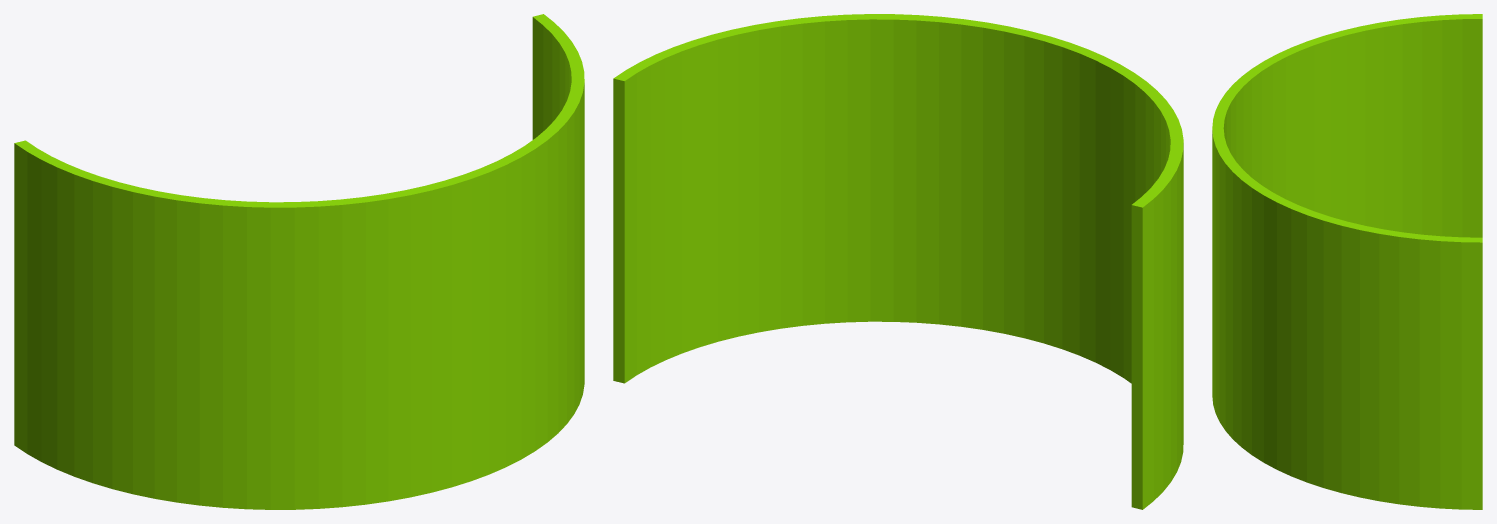
File: Wall_03_Half_Bend_02.fbx
The picture shows the model from 3 angles, left to right: view 1: azimuth 30°, elevation 25°; view 2: azimuth 150°, elevation 25°; view 3: azimuth 270°, elevation 25°; orthographic projection. The views are drawn at different scales.
Parts seen in each view (by area): view 1: Wall_03_Half_Bend_02; view 2: Wall_03_Half_Bend_02; view 3: Wall_03_Half_Bend_02.
Boxes of the visible parts, x1,y1,x2,y2 form: Wall_03_Half_Bend_02: (14,14,584,509); Wall_03_Half_Bend_02: (613,14,1183,509); Wall_03_Half_Bend_02: (1212,14,1482,509).
Bounding box in the file's own units: 1049 × 572 × 524.
